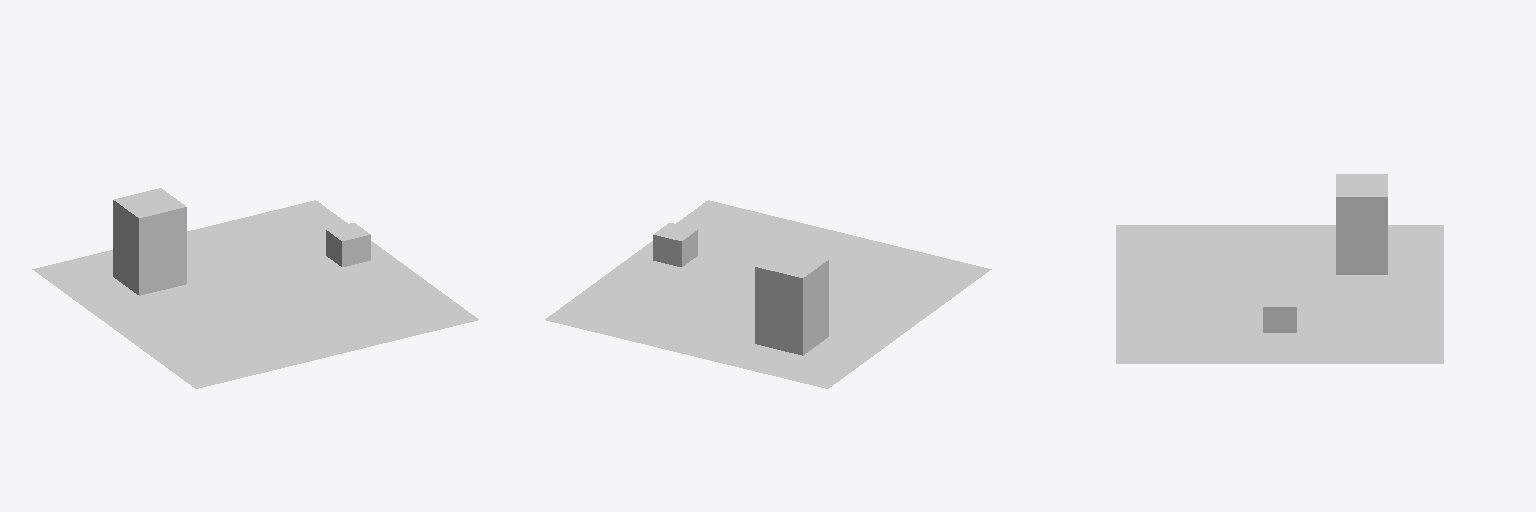
The model's file is slice.obj.
The picture shows the model from 3 angles: view 1: azimuth 30°, elevation 25°; view 2: azimuth 150°, elevation 25°; view 3: azimuth 270°, elevation 25°; orthographic projection.
Parts seen in each view (by area): view 1: slice; view 2: slice; view 3: slice.
Boxes of the visible parts, <box> form: slice: <box>32,188,478,388</box>; slice: <box>545,200,991,388</box>; slice: <box>1116,174,1443,363</box>.
Size of the model in its own units: 500 by 130 by 500.